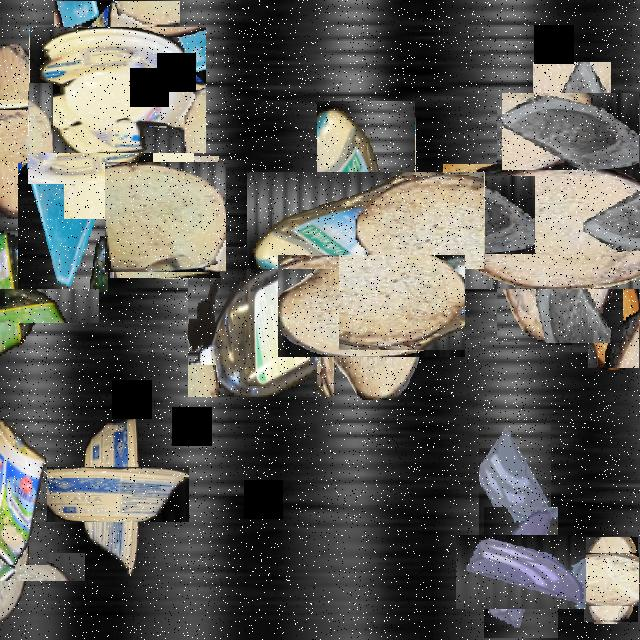glass: (46, 72, 176, 202), (18, 134, 108, 294), (518, 77, 626, 186), (470, 521, 572, 624), (479, 423, 551, 551), (639, 269, 640, 375)
plastic: (282, 136, 450, 304), (41, 15, 193, 166), (188, 247, 334, 397), (58, 441, 164, 547), (0, 420, 47, 566), (0, 256, 67, 355)
wood: (470, 135, 640, 316), (298, 233, 444, 379), (107, 159, 223, 275), (0, 72, 91, 191), (0, 524, 57, 609), (588, 276, 640, 368), (576, 544, 640, 614)
